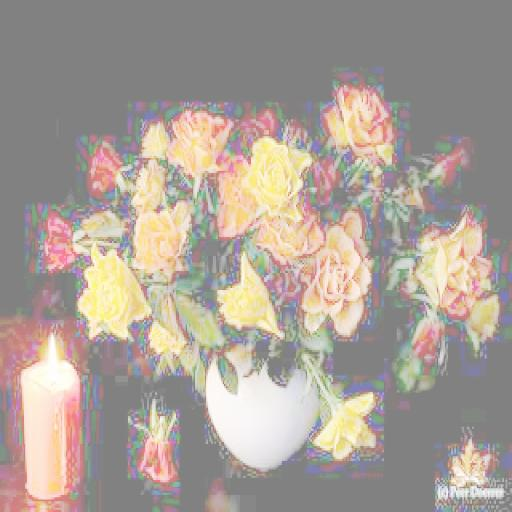rose: (302, 213, 368, 333), (422, 216, 492, 312), (77, 252, 149, 339), (243, 138, 309, 218), (325, 83, 392, 152), (166, 111, 232, 177), (132, 207, 186, 271), (44, 215, 74, 269), (90, 138, 118, 188)
